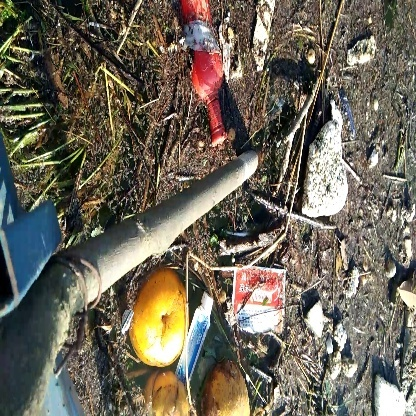ball: (127, 271, 190, 369)
bottle: (172, 1, 235, 149)
plastic-bag: (234, 263, 289, 342)
plastic-garbage: (302, 119, 357, 219)
